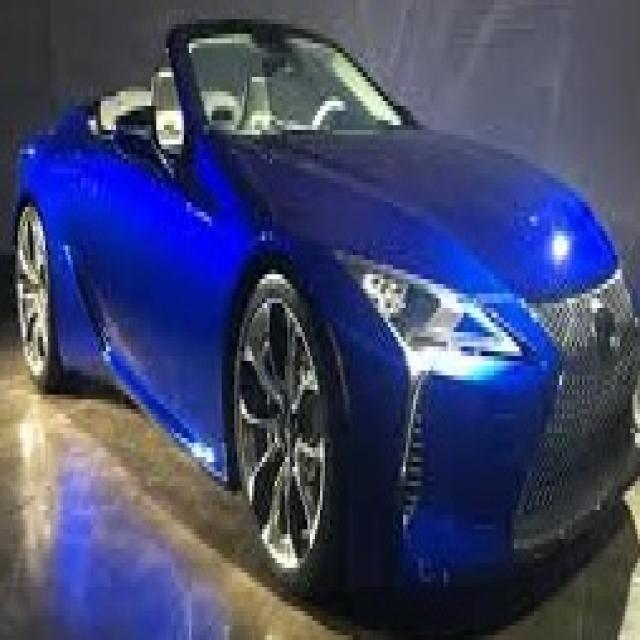blue: (10, 15, 640, 624)
